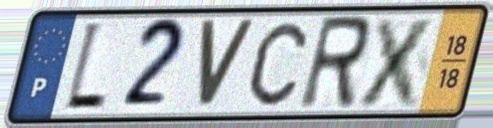2: (115, 15, 191, 116)
C: (246, 19, 310, 109)
L: (60, 18, 110, 116)
R: (294, 13, 376, 114)
V: (196, 17, 259, 113)
X: (353, 14, 443, 110)
